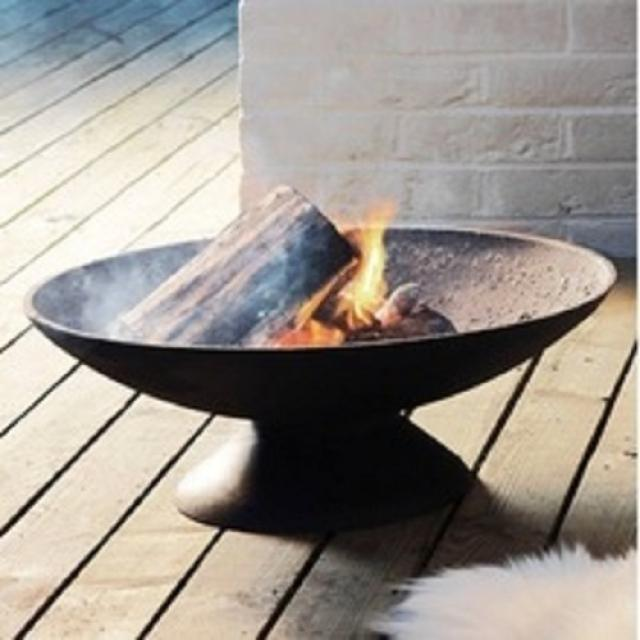fire: (332, 198, 393, 332), (277, 317, 342, 349)
